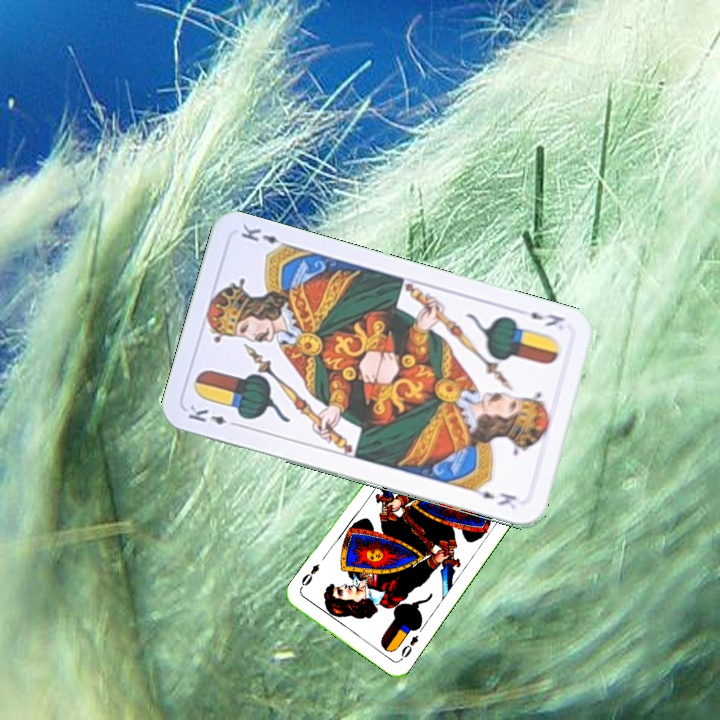EK: (184, 401, 242, 430), (526, 308, 567, 329)
EO: (395, 631, 421, 663)
